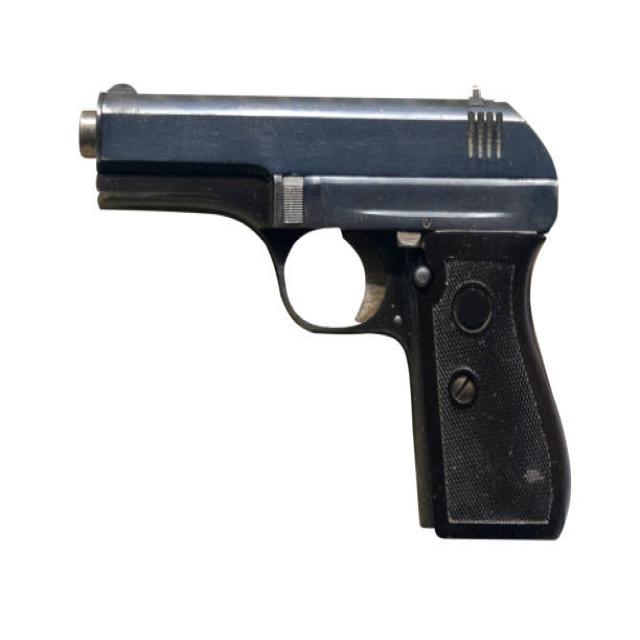pistol: (67, 79, 585, 557)
